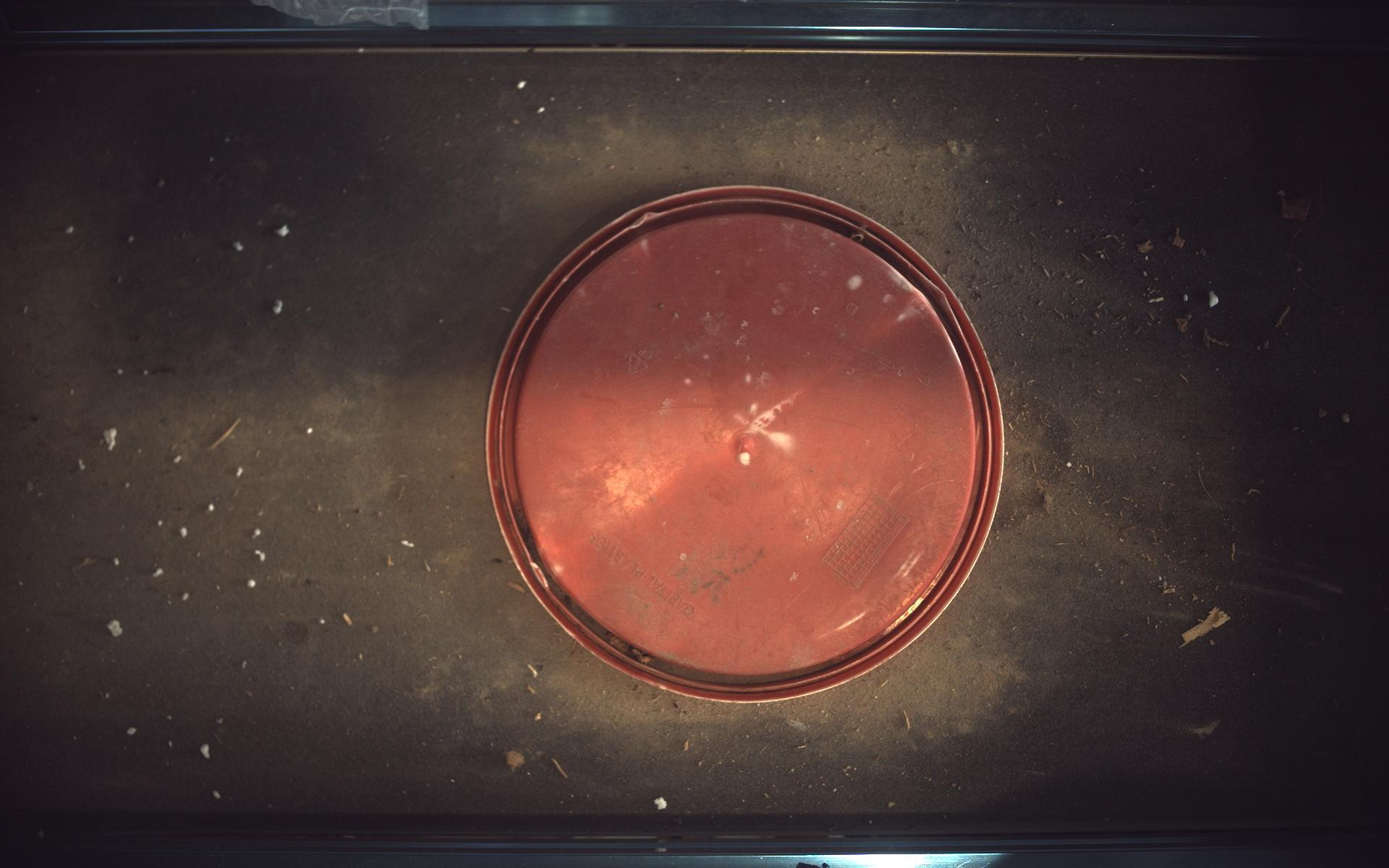plastic: (488, 186, 1006, 703)
